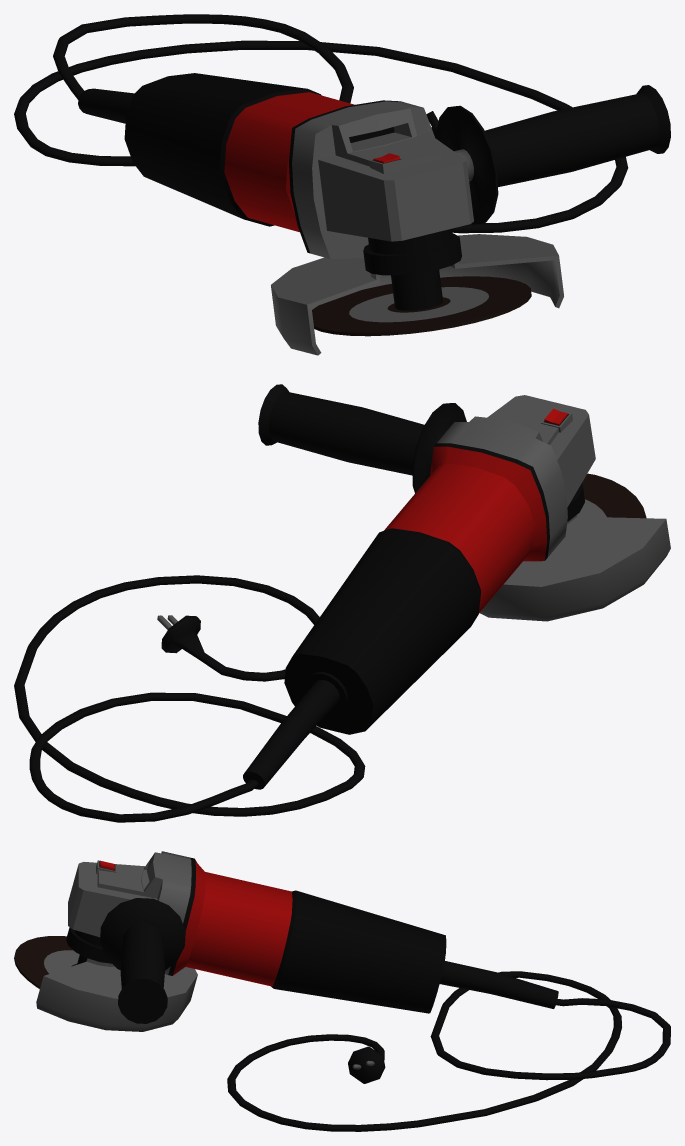
The model's file is meuleuse-electrique.obj.
3 renders of one model, top to bottom at view 1: azimuth 30°, elevation 25°; view 2: azimuth 150°, elevation 25°; view 3: azimuth 270°, elevation 25°, orthographic. The views are drawn at different scales.
Visible parts, largest first — view 1: machine_Cube.002, wire_CUBezierCurve, machine.001_Cube.000; view 2: machine_Cube.002, wire_CUBezierCurve, machine.001_Cube.000; view 3: machine_Cube.002, wire_CUBezierCurve, machine.001_Cube.000.
Boxes of the visible parts, x1,y1,x2,y2 form: machine_Cube.002: (78,73,670,355); wire_CUBezierCurve: (14,14,628,233); machine.001_Cube.000: (312,276,531,336); machine_Cube.002: (243,384,670,789); wire_CUBezierCurve: (14,575,365,822); machine.001_Cube.000: (577,473,646,518); machine_Cube.002: (36,851,558,1031); wire_CUBezierCurve: (227,971,670,1131); machine.001_Cube.000: (14,936,79,988).
Bounding box in the file's own units: 31.1 × 12.58 × 51.33.
